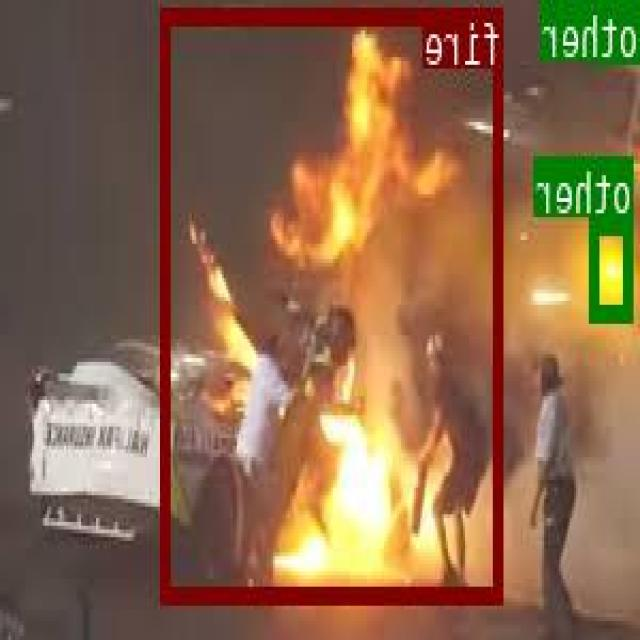fire: (162, 6, 503, 599)
other: (592, 216, 634, 318), (591, 0, 640, 61)
